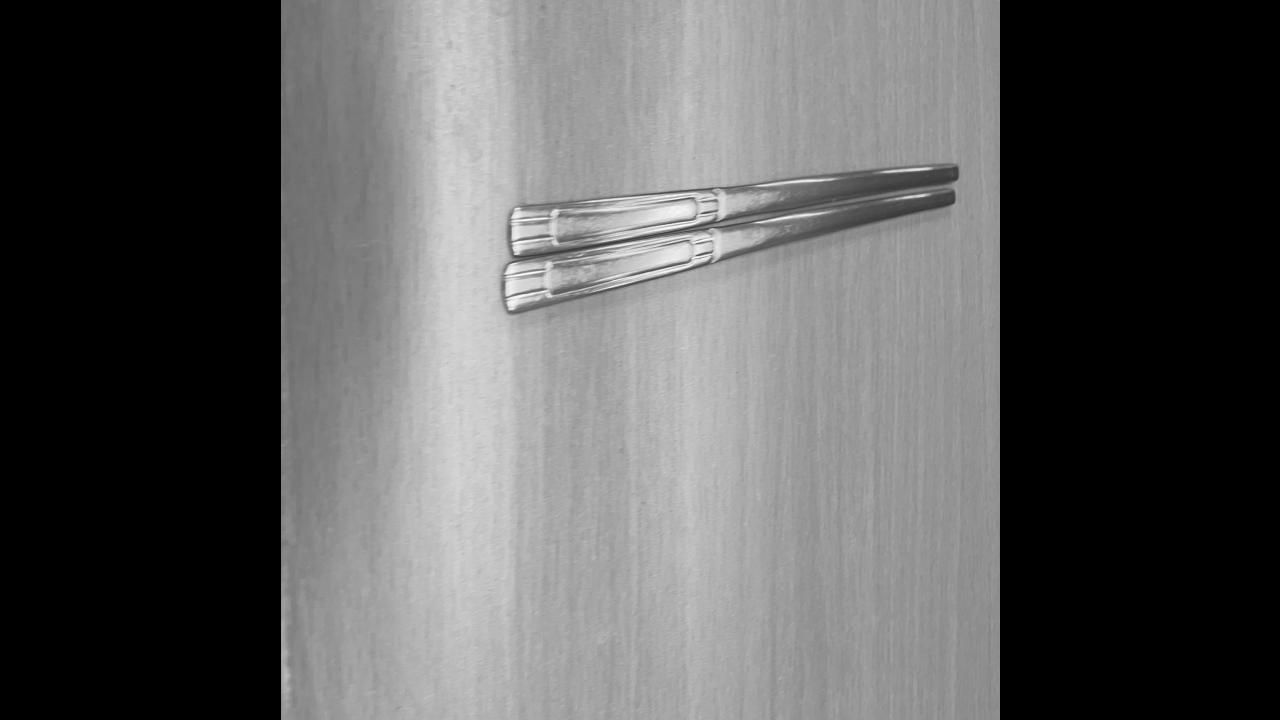chopstick: (507, 166, 958, 308)
